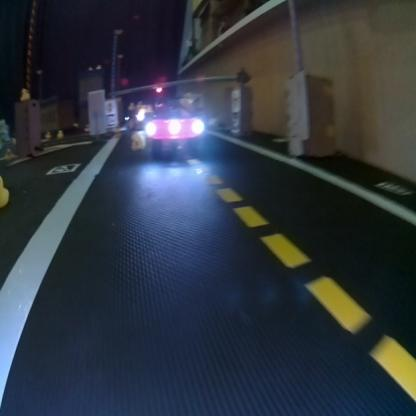duckie: (0, 167, 14, 212), (15, 85, 36, 105)
duckiebot: (136, 88, 218, 160)
